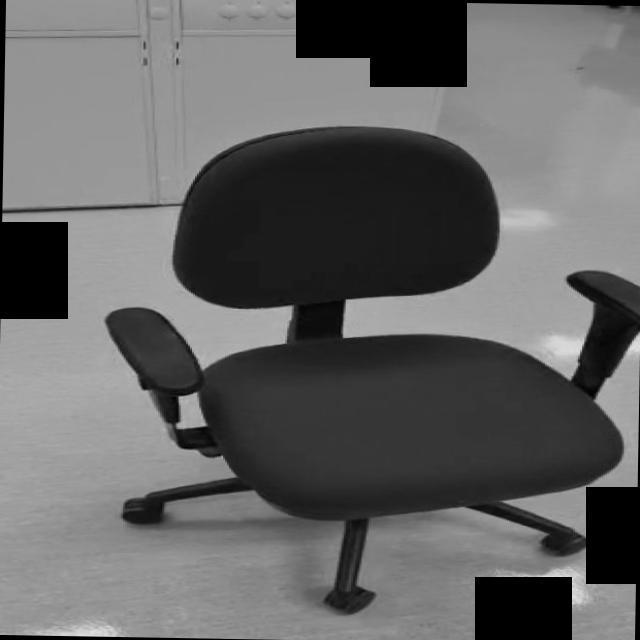chair: (100, 121, 640, 617)
